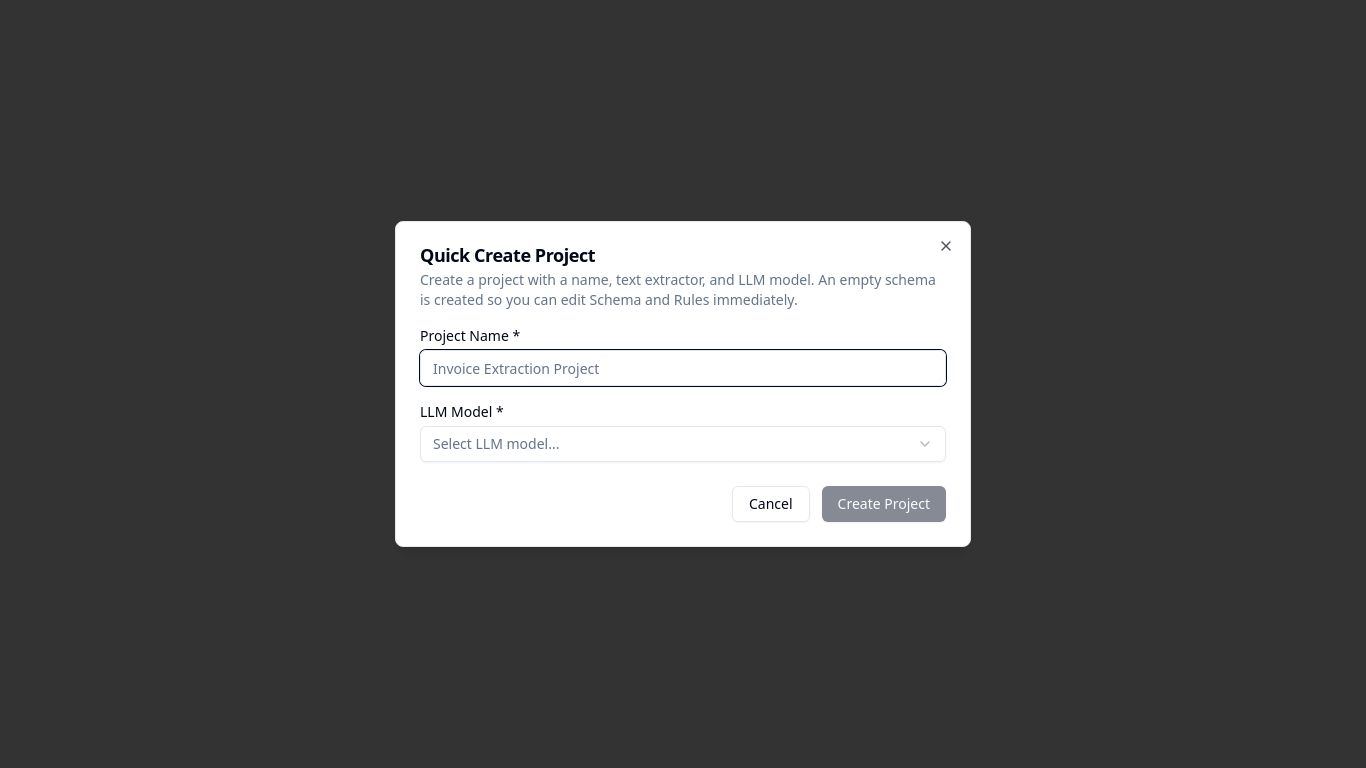
Test: ProjectWizard › requires name and model before submitting
Expected: the button "Create Project" is disabled, [822,486,946,522]
In the field labelled "Project Name *": (683,368) [420,350,946,386], type "Quick Project"
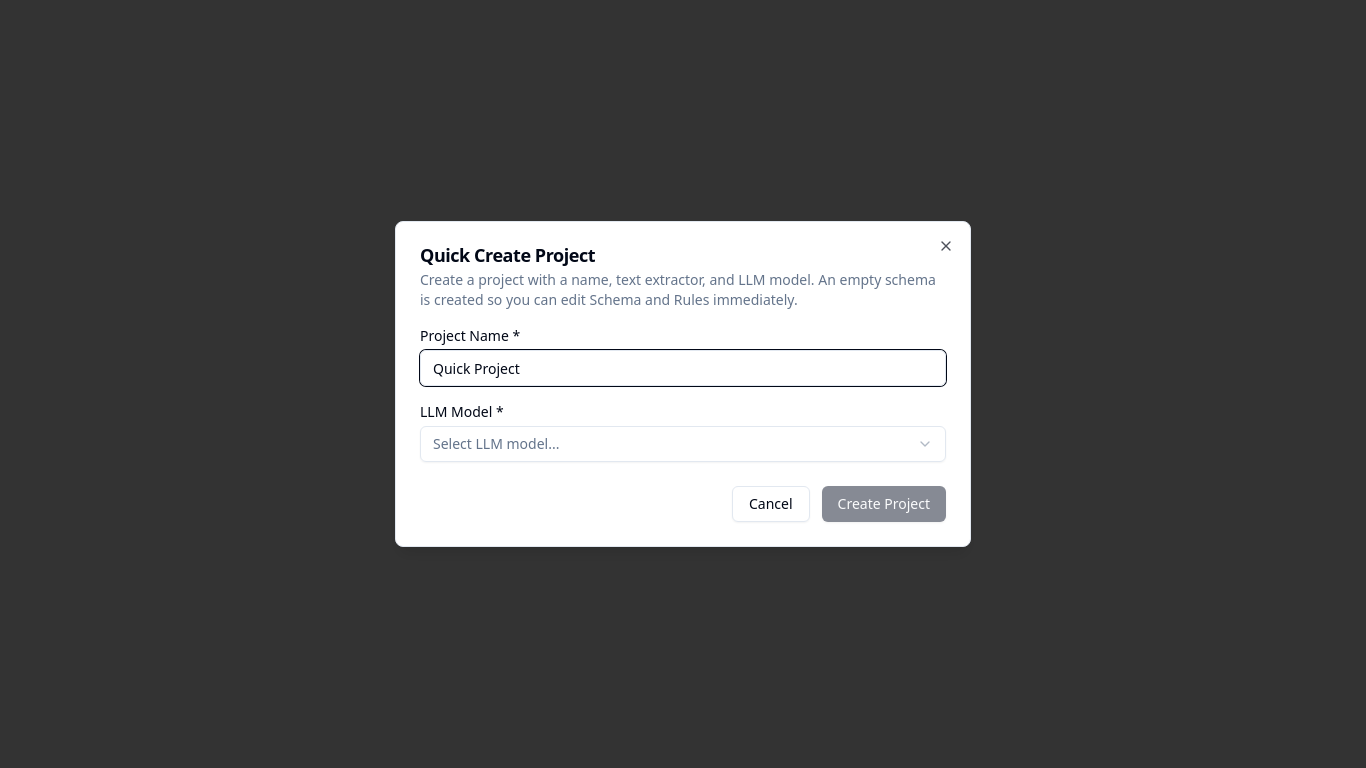
Expected: the button "Create Project" is disabled, [822,486,946,522]
Click the dropdown labelled "Select LLM model...": (496,444) [420,426,946,462]
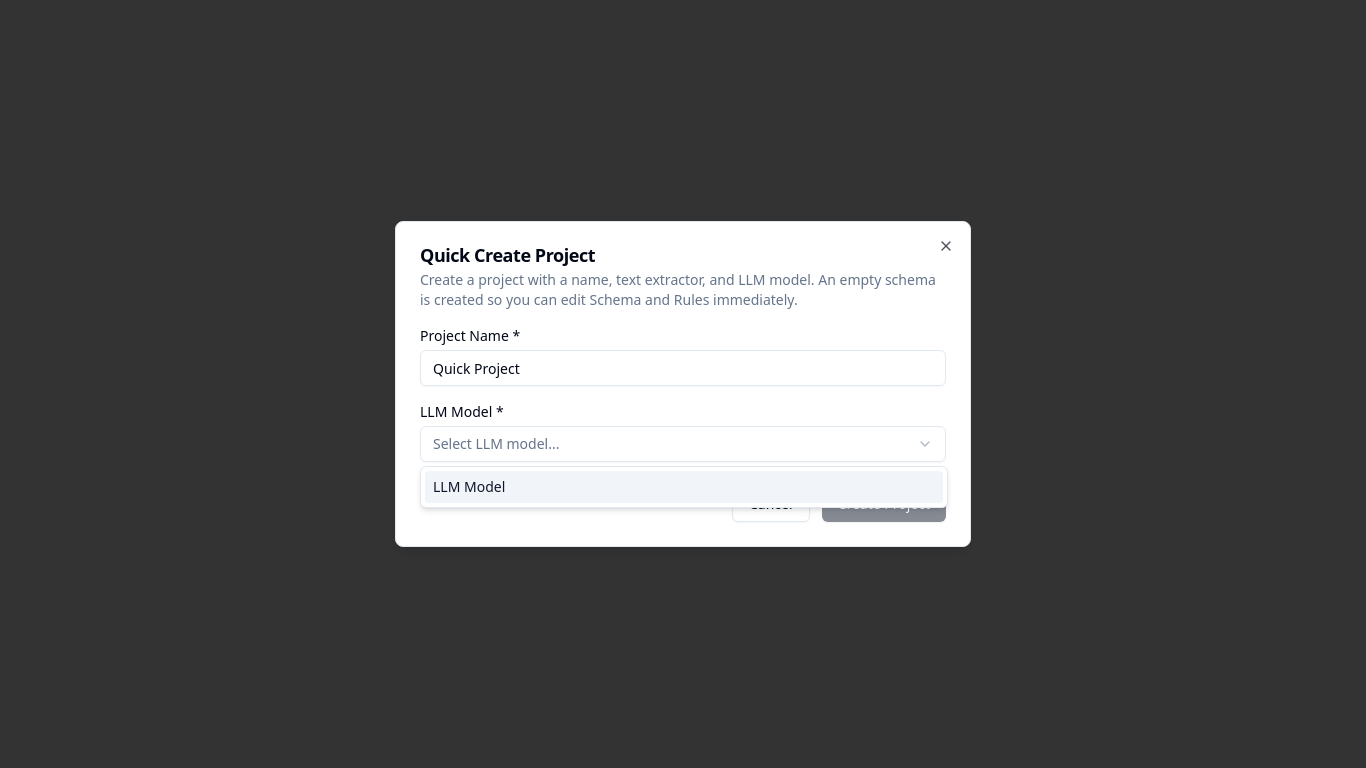
Click the option "LLM Model": (469,486) [425,471,943,503]
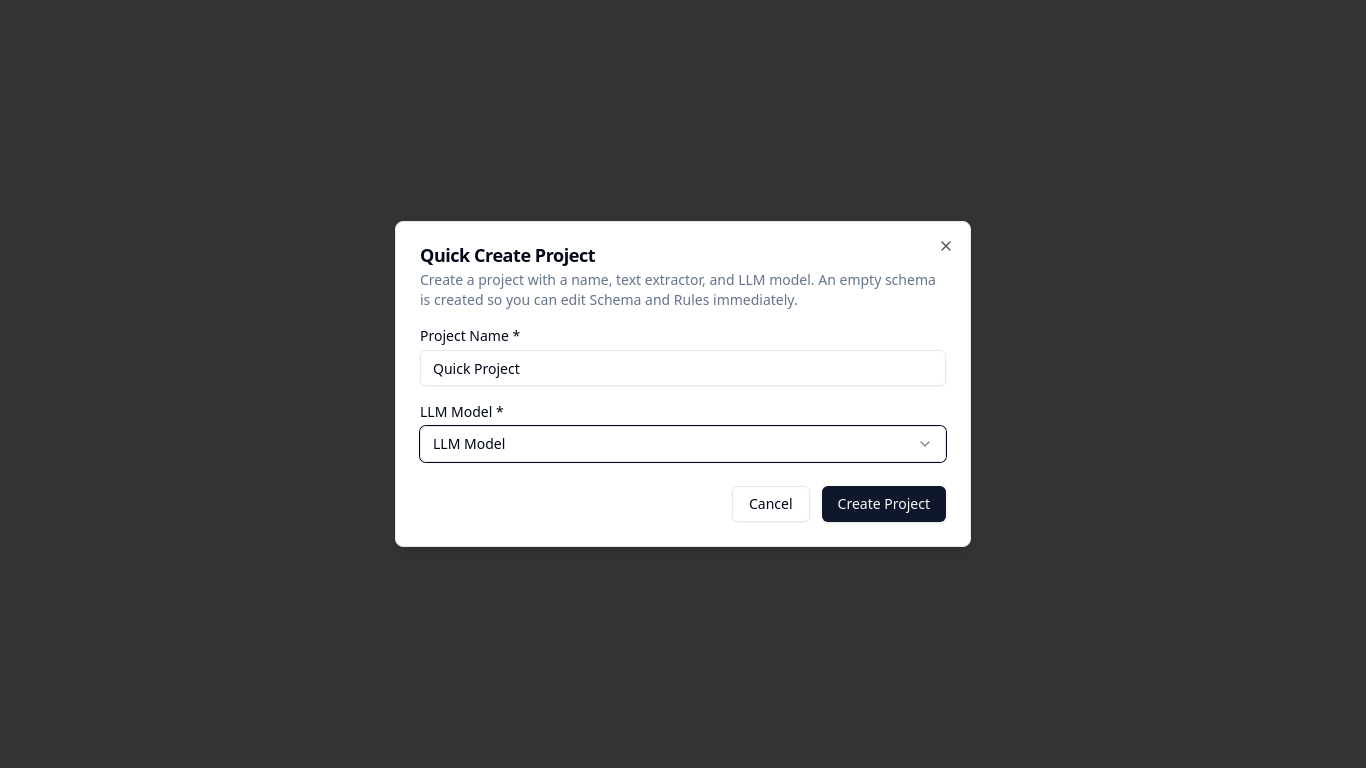
Result: the button "Create Project" is enabled at [822,486,946,522]
